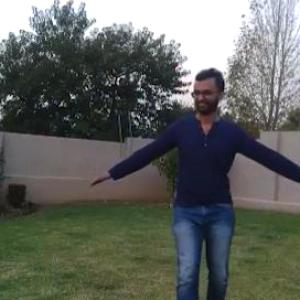land: (64, 46, 299, 299)
